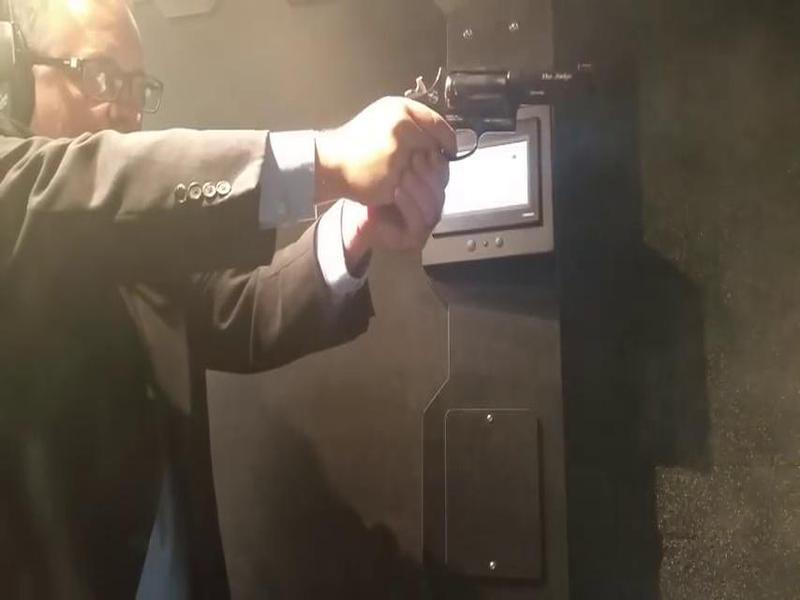Revolver: (393, 44, 599, 202)
